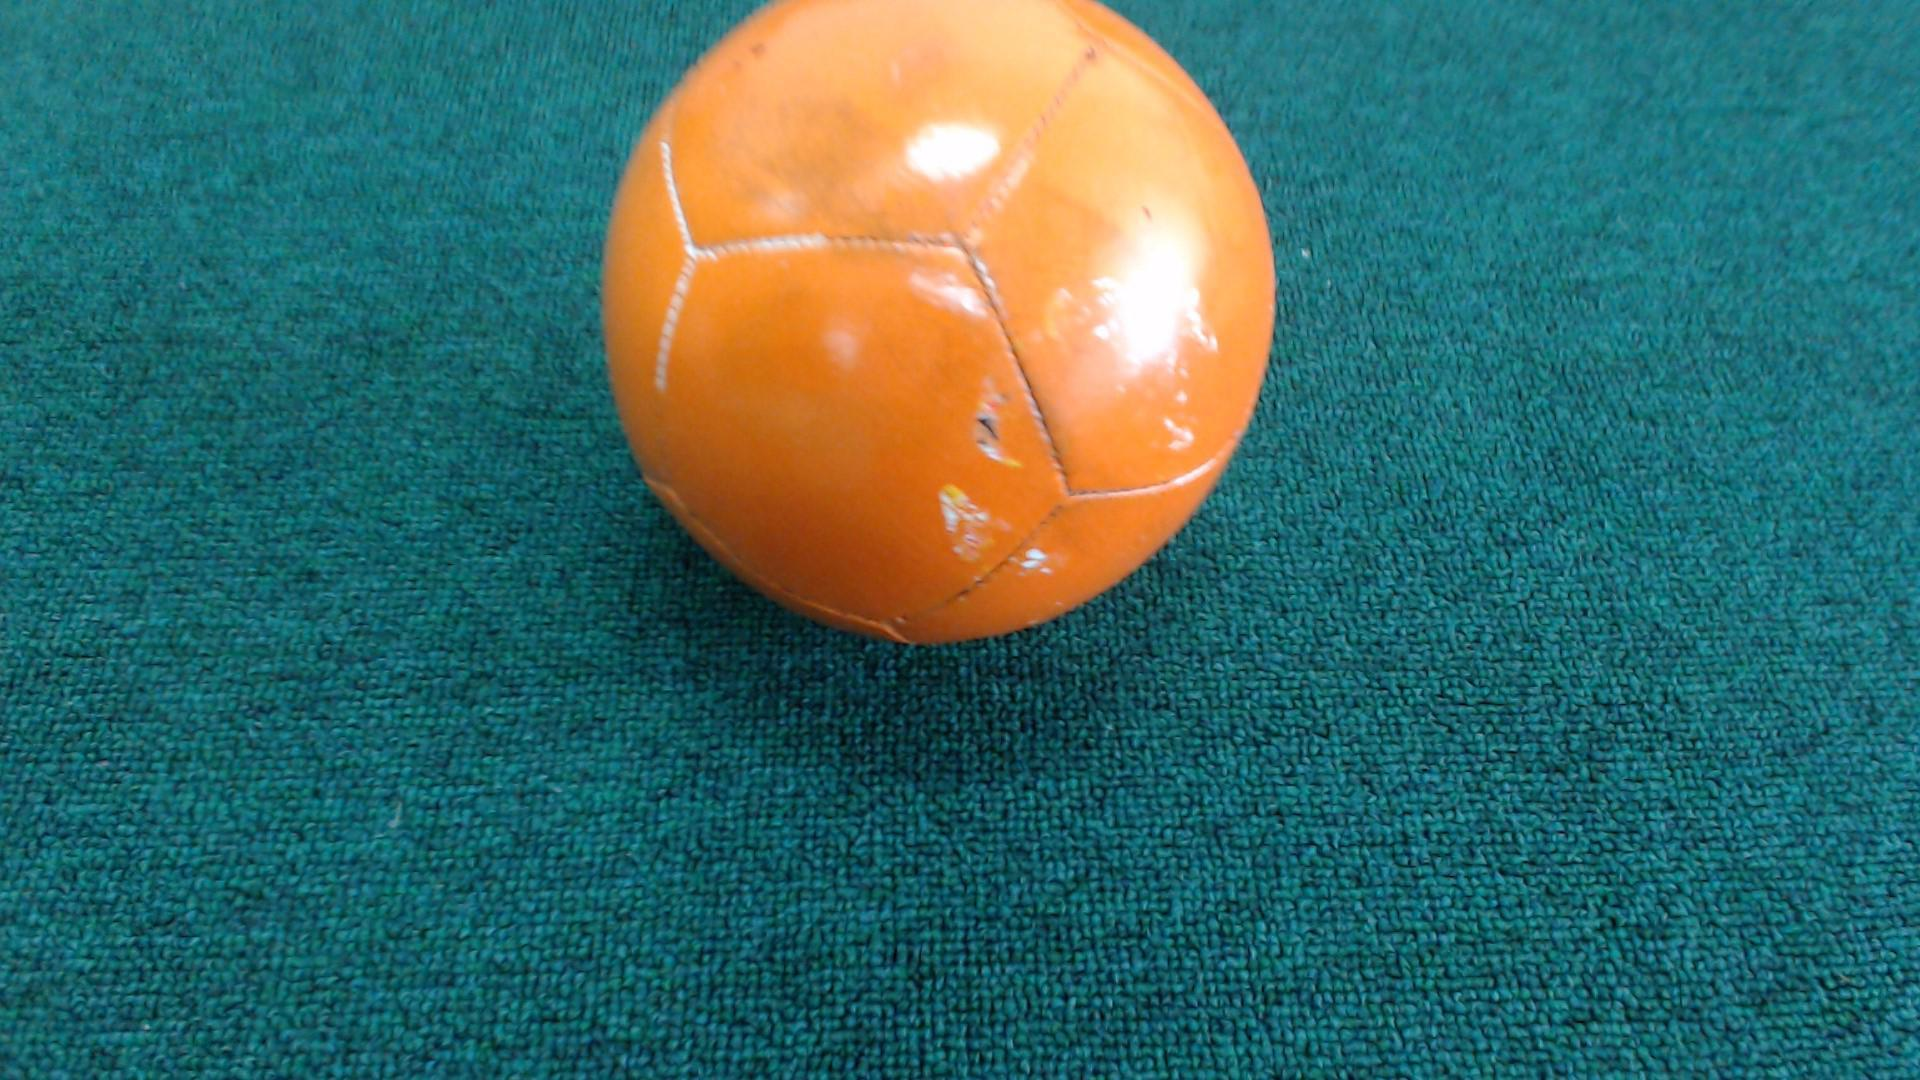bola: (558, 0, 1316, 665)
